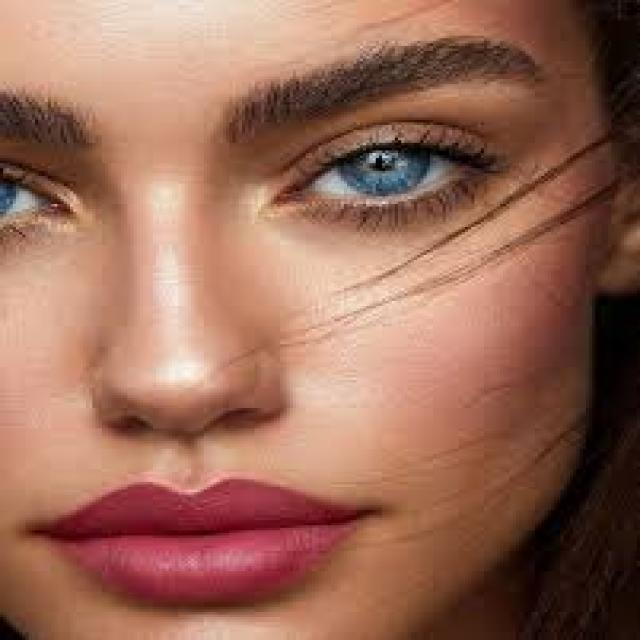low: (270, 214, 508, 251), (0, 226, 115, 256)
